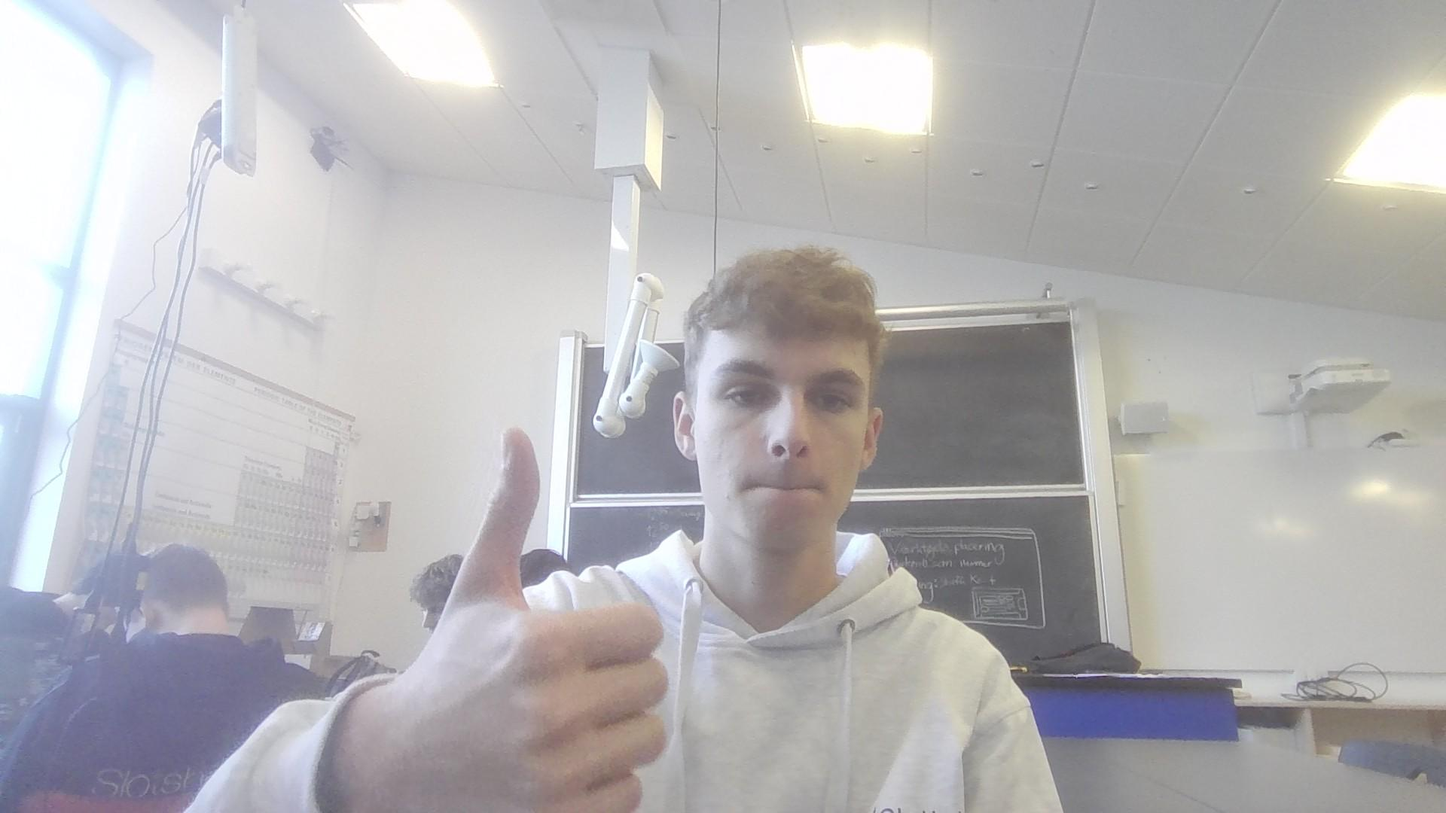thumbs up: (315, 428, 668, 813)
